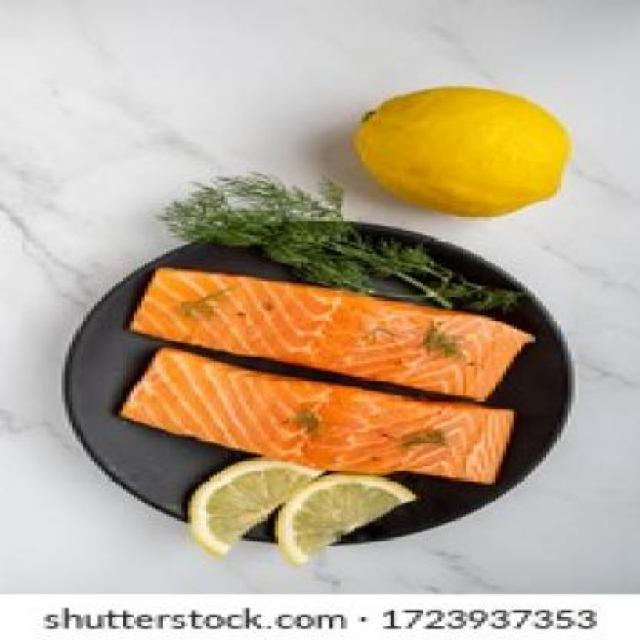salmon: (88, 334, 532, 494), (101, 256, 564, 394)
